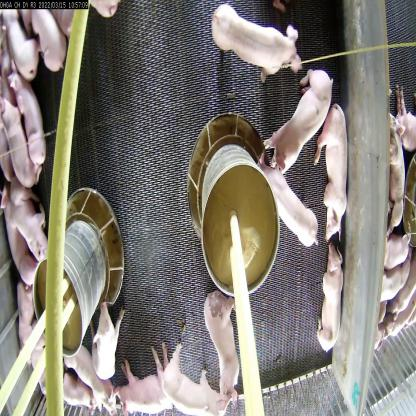Pig: (256, 58, 334, 188), (154, 320, 242, 415), (205, 0, 301, 87), (0, 57, 45, 231), (5, 76, 56, 212), (205, 258, 251, 395), (265, 166, 330, 262), (115, 343, 193, 416), (319, 108, 361, 243), (0, 1, 49, 115), (320, 231, 358, 372), (21, 0, 73, 100), (0, 171, 40, 268), (84, 292, 120, 390)
